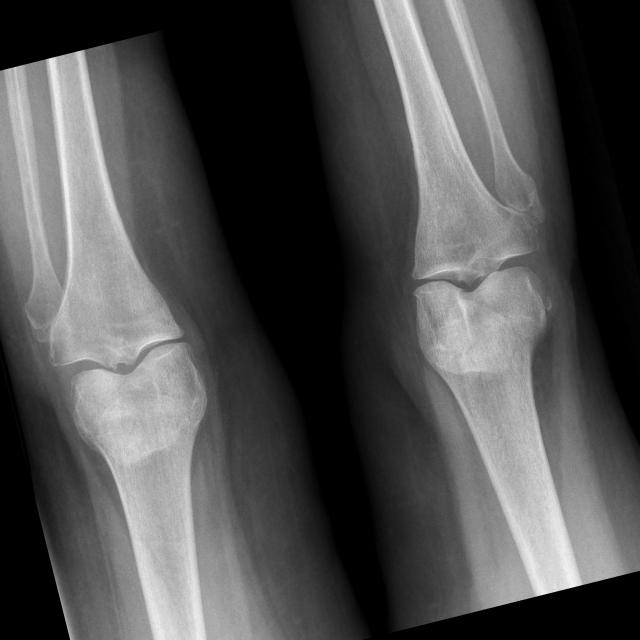Knee: (385, 171, 566, 387), (34, 264, 220, 468)
